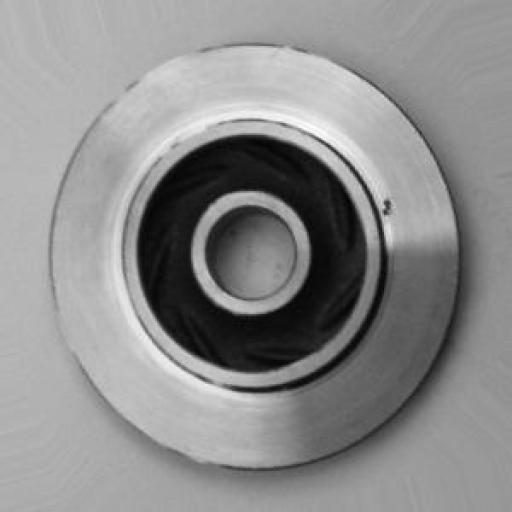defect: (362, 177, 412, 242)
